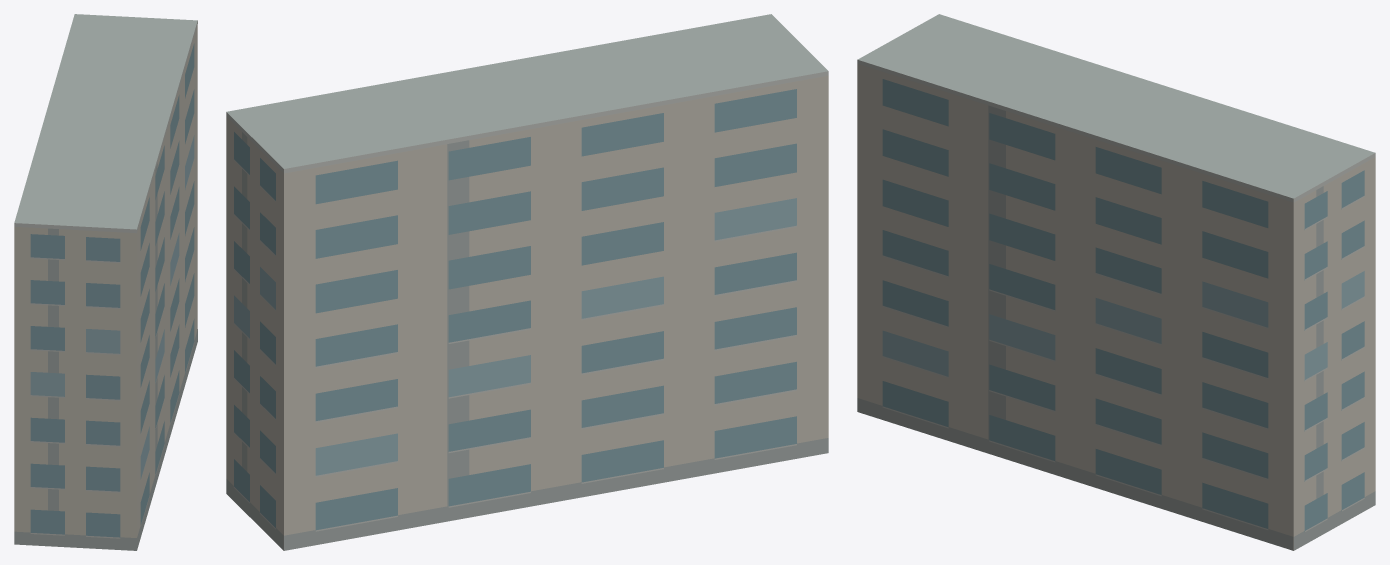
Rendered from survey-upis-32636410.glb.
3 views of the same model, side by side, from view 1: azimuth 30°, elevation 25°; view 2: azimuth 150°, elevation 25°; view 3: azimuth 270°, elevation 25° (orthographic). The views are drawn at different scales.
Visible parts, largest first — view 1: survey-upis-32636410.tmp; view 2: survey-upis-32636410.tmp; view 3: survey-upis-32636410.tmp.
Part boxes in pixels (x1,y1,x2,y2): survey-upis-32636410.tmp: (14, 14, 197, 550); survey-upis-32636410.tmp: (226, 14, 828, 550); survey-upis-32636410.tmp: (857, 14, 1375, 550).
Bounding box in the file's own units: 23.73 × 21.1 × 28.13.
